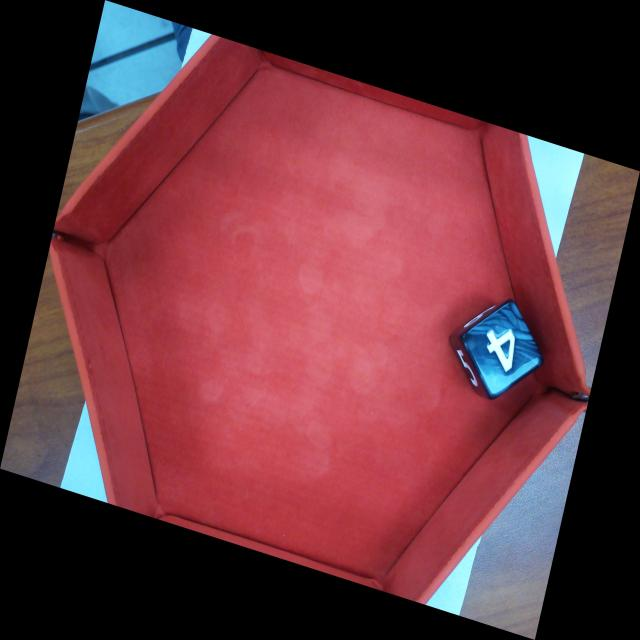dice: (467, 300, 541, 399)
